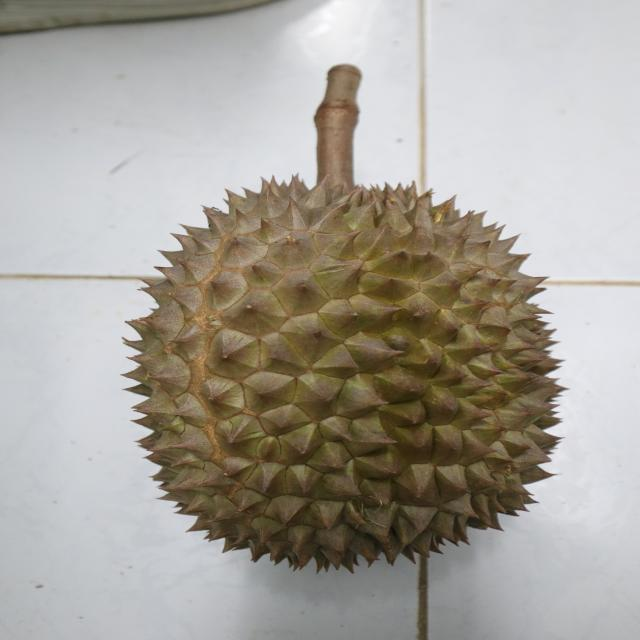mature: (115, 170, 568, 576)
